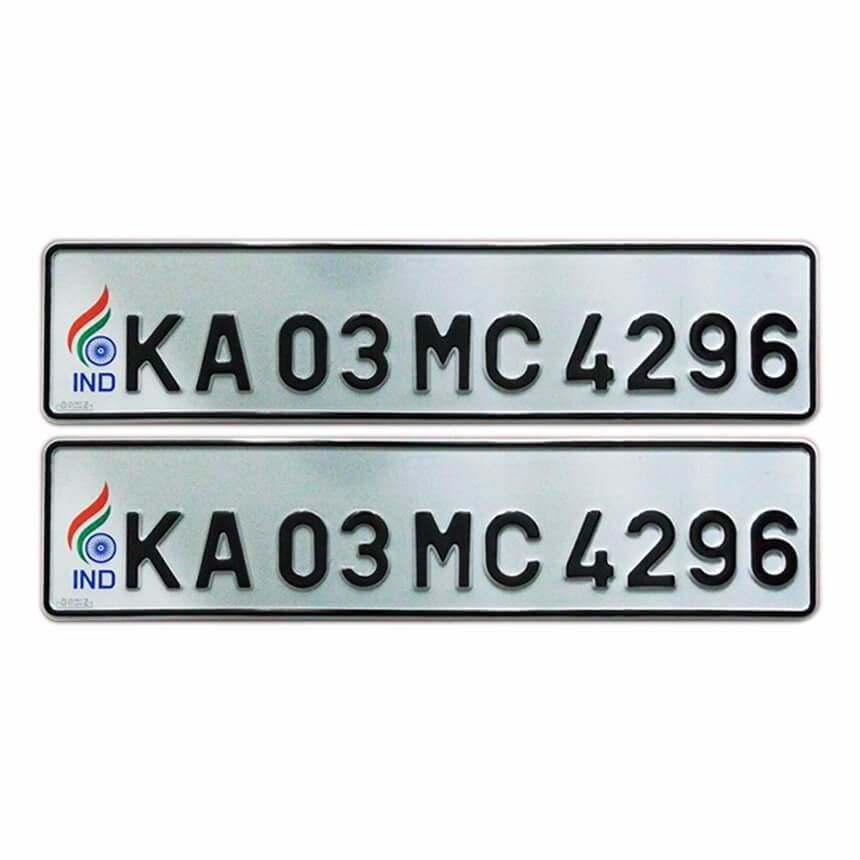number_plate: (37, 237, 827, 428), (40, 435, 813, 624)
